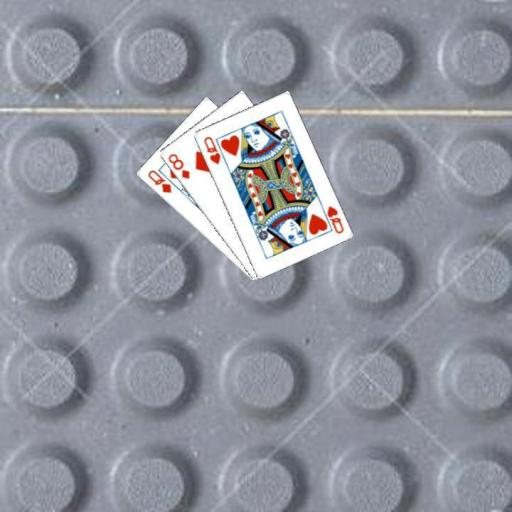card-corner: (317, 202, 345, 235), (164, 150, 192, 181), (144, 166, 173, 195), (200, 133, 222, 166)
